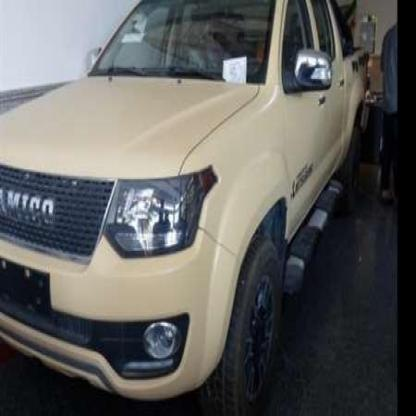Car: (0, 0, 370, 416)
